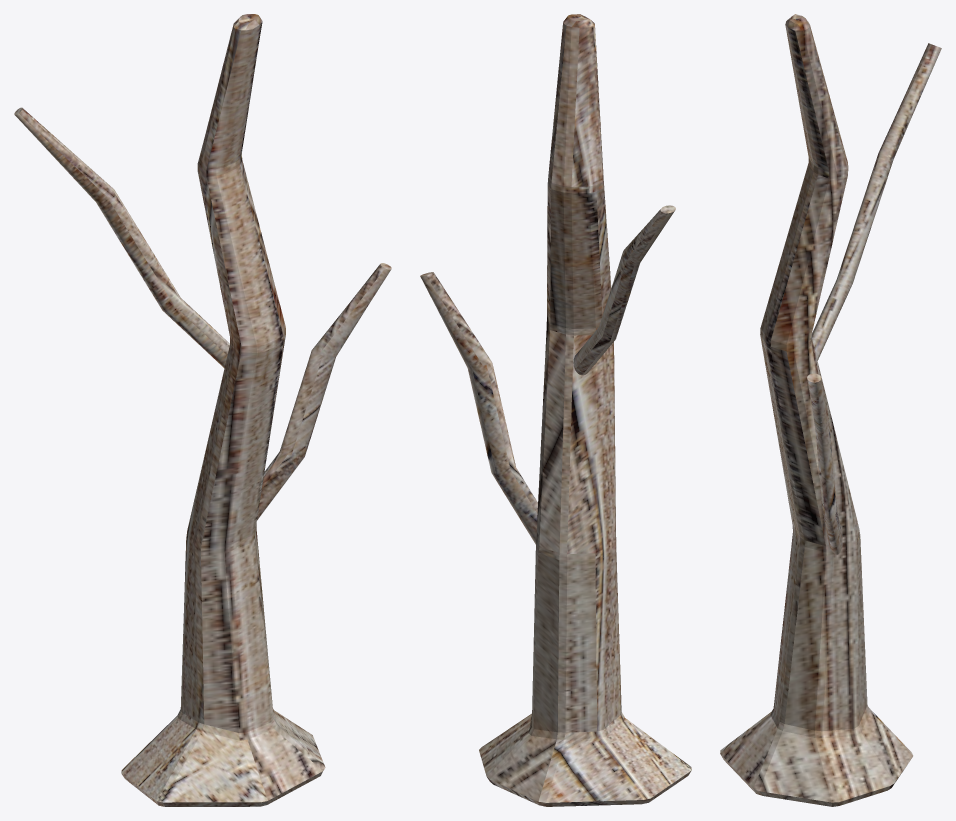
File: dead tree.fbx
The picture shows the model from 3 angles, left to right: view 1: azimuth 30°, elevation 25°; view 2: azimuth 150°, elevation 25°; view 3: azimuth 270°, elevation 25°; orthographic projection.
Visible parts, largest first — view 1: pCylinder20; view 2: pCylinder20; view 3: pCylinder20.
Part boxes in pixels (x1,y1,x2,y2): pCylinder20: [14, 14, 391, 806]; pCylinder20: [420, 14, 691, 806]; pCylinder20: [720, 14, 941, 806].
Size of the model in its own units: 3.03 by 6.92 by 1.85.
1 material, 1 textured.
